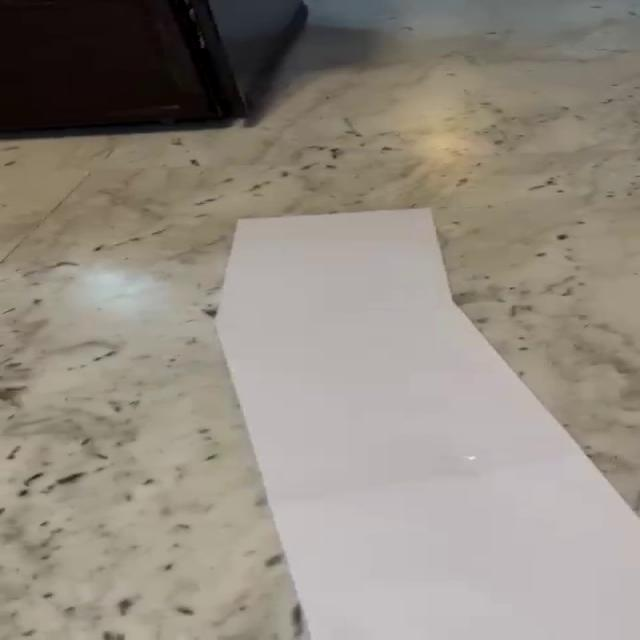road: (217, 208, 639, 640)
